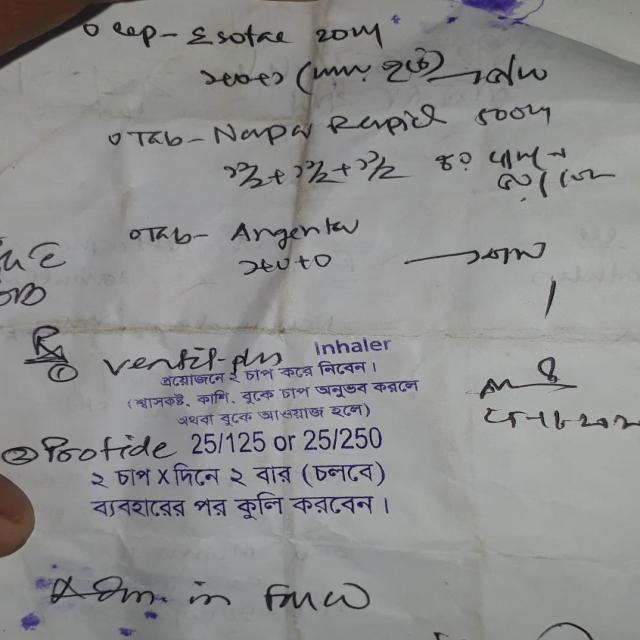Angenta: (217, 217, 367, 252)
Esotac: (179, 19, 300, 58)
Napa Rapid: (201, 108, 451, 140)
Protide: (36, 428, 178, 468)
Ventil Plus: (92, 343, 293, 382)
